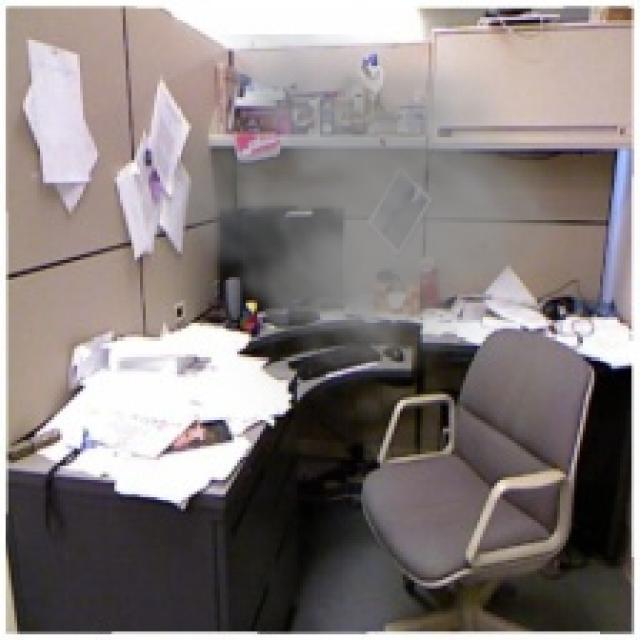Smoke: (152, 34, 577, 414)
